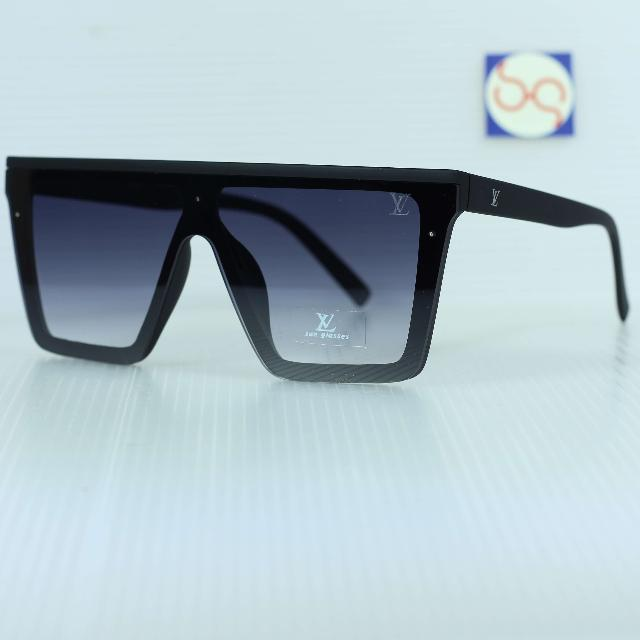Sunglasses: (6, 144, 632, 394)
